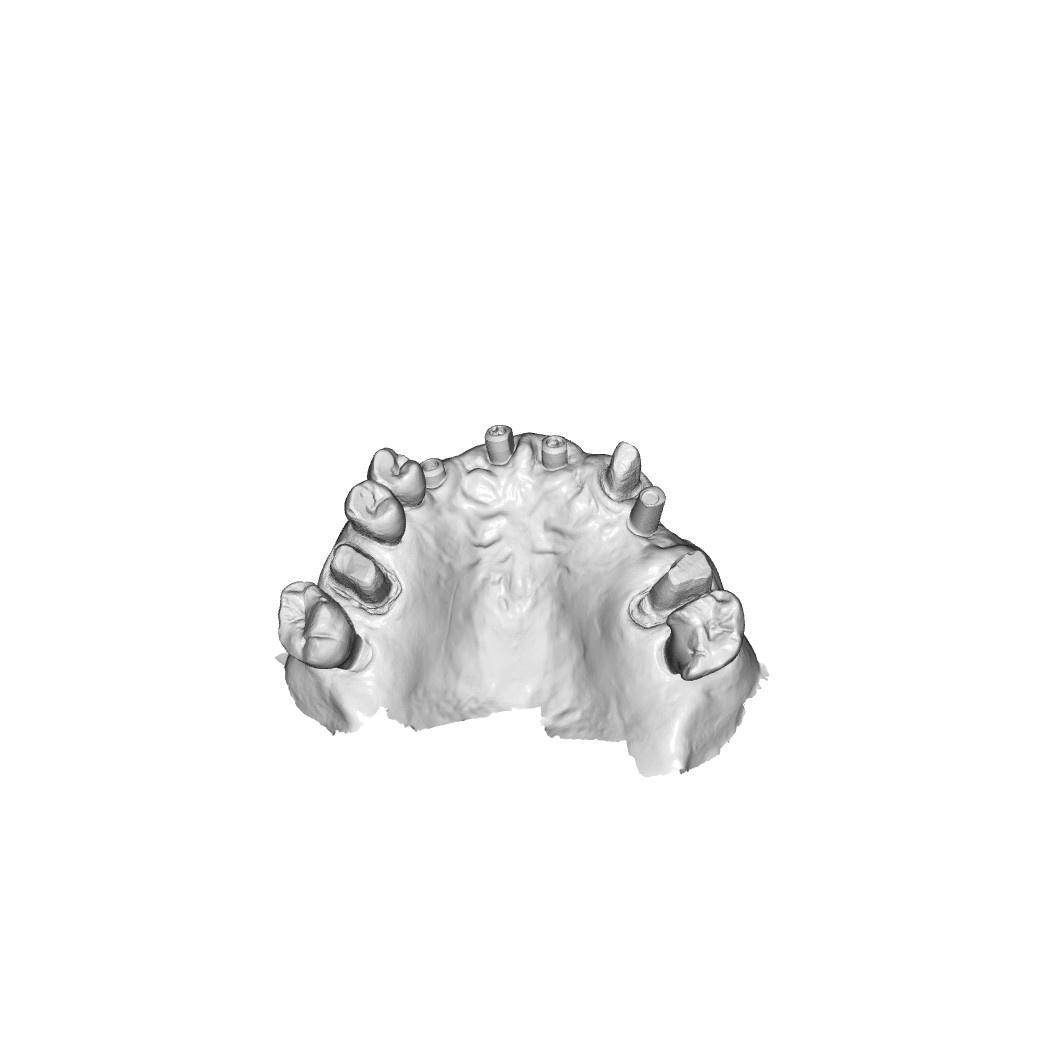abutment: (623, 485, 672, 538)
crown: (641, 546, 716, 620), (327, 541, 395, 609), (604, 437, 648, 502)
implant: (538, 433, 574, 476), (485, 422, 518, 466), (416, 457, 451, 489)
molar: (667, 587, 747, 682), (276, 579, 355, 670)
premolar: (342, 476, 406, 545), (368, 446, 428, 503)
